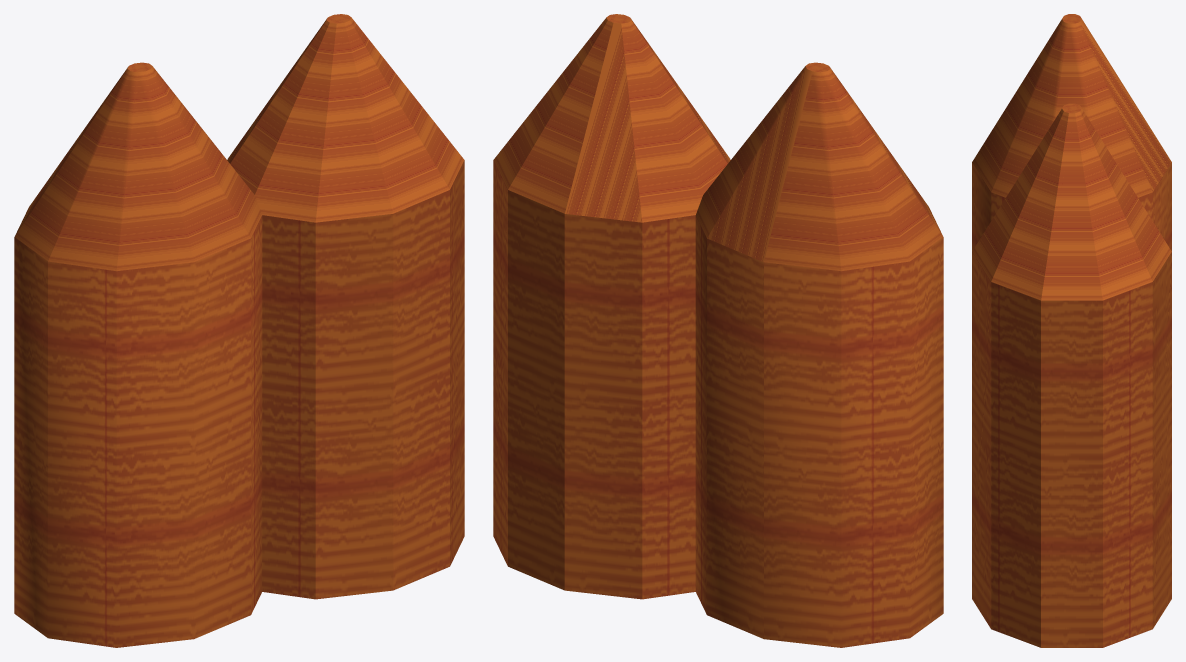
Rendered from wall.fbx.
3 views of the same model, side by side, from view 1: azimuth 30°, elevation 25°; view 2: azimuth 150°, elevation 25°; view 3: azimuth 270°, elevation 25° (orthographic). The views are drawn at different scales.
Visible parts, largest first — view 1: Mesh, Mesh (2); view 2: Mesh, Mesh (2); view 3: Mesh (2), Mesh.
Boxes of the visible parts, x1=… form: Mesh: x1=14, y1=62, x2=262, y2=647; Mesh (2): x1=227, y1=14, x2=464, y2=599; Mesh: x1=695, y1=62, x2=943, y2=647; Mesh (2): x1=493, y1=14, x2=730, y2=599; Mesh (2): x1=972, y1=103, x2=1171, y2=647; Mesh: x1=972, y1=14, x2=1171, y2=251.
Bounding box in the file's own units: 2.97 × 3.63 × 1.34.
Materials: 1 (1 with a texture image).
